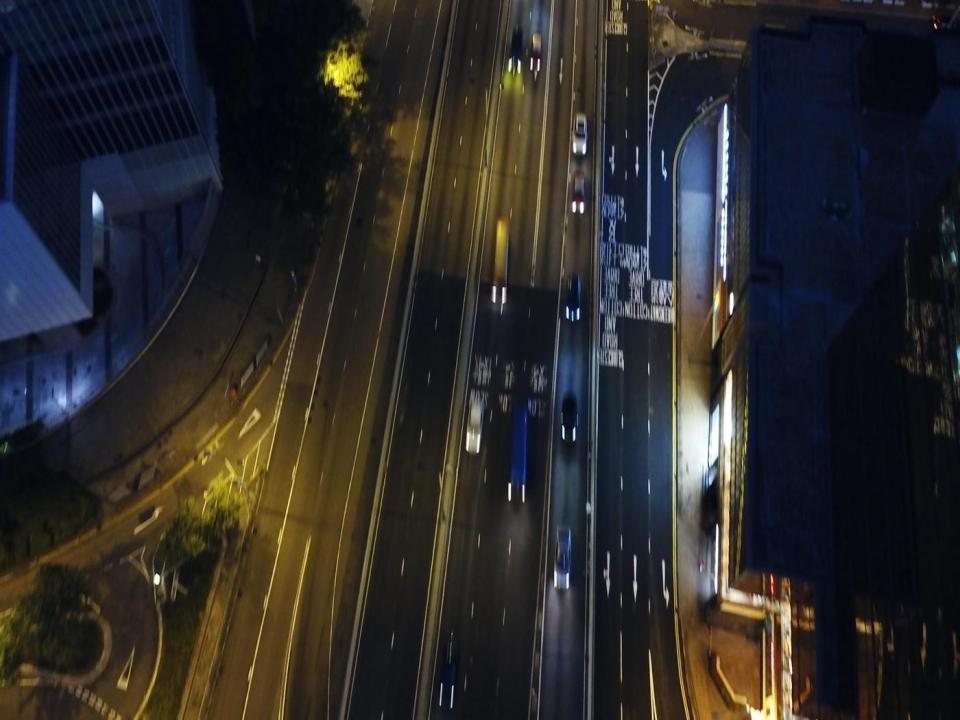bus: (508, 406, 528, 502), (491, 218, 509, 304)
car: (439, 635, 457, 708), (554, 526, 571, 590), (465, 400, 484, 454), (565, 274, 580, 321), (572, 112, 588, 156), (508, 27, 522, 74), (562, 398, 576, 442), (572, 171, 584, 213), (530, 31, 542, 70)
